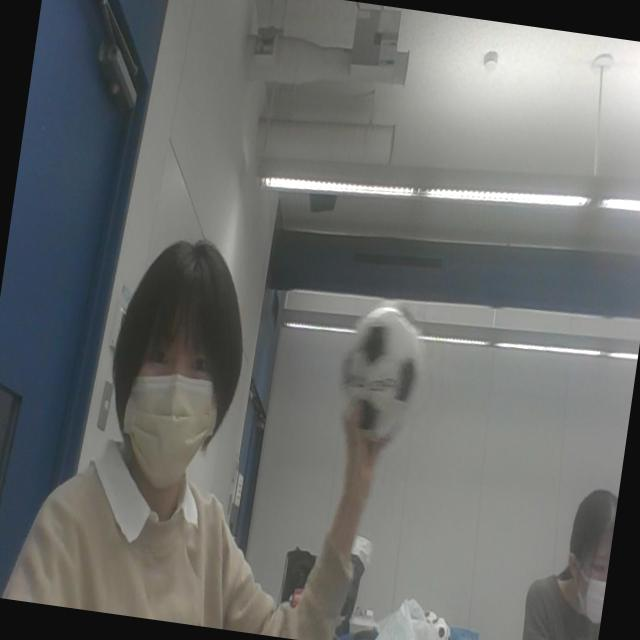Soccer Ball: (332, 304, 427, 451)
